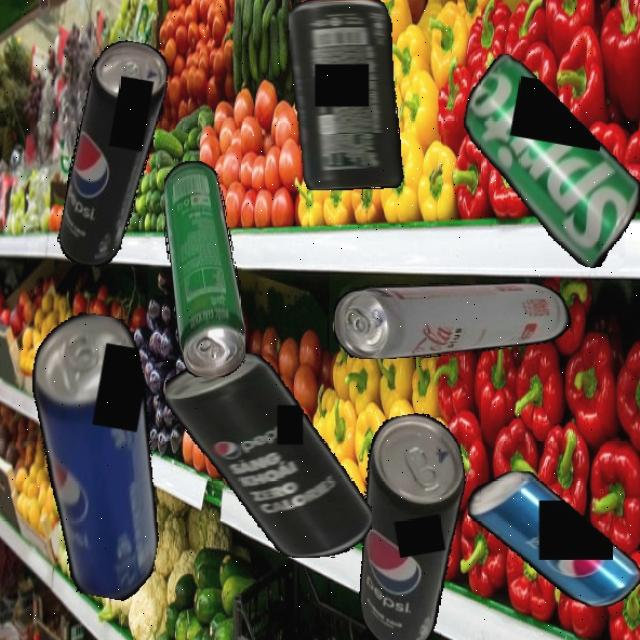debris: (0, 306, 195, 604), (443, 49, 640, 274), (164, 353, 372, 558), (330, 407, 493, 640), (54, 36, 173, 272), (467, 472, 640, 606), (288, 0, 404, 190), (334, 282, 574, 359), (164, 160, 245, 377)
